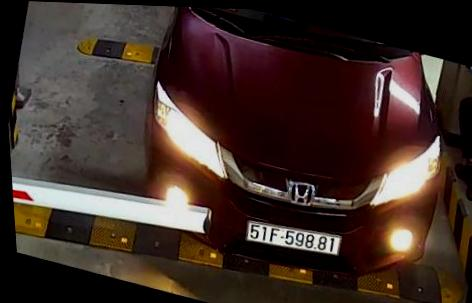License_Plate: (236, 209, 346, 265)
